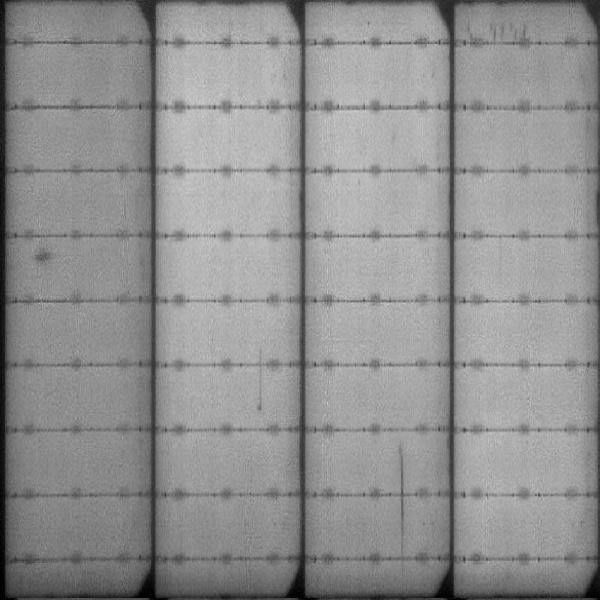scratch: (466, 25, 531, 41), (396, 449, 404, 553), (256, 347, 263, 412)
